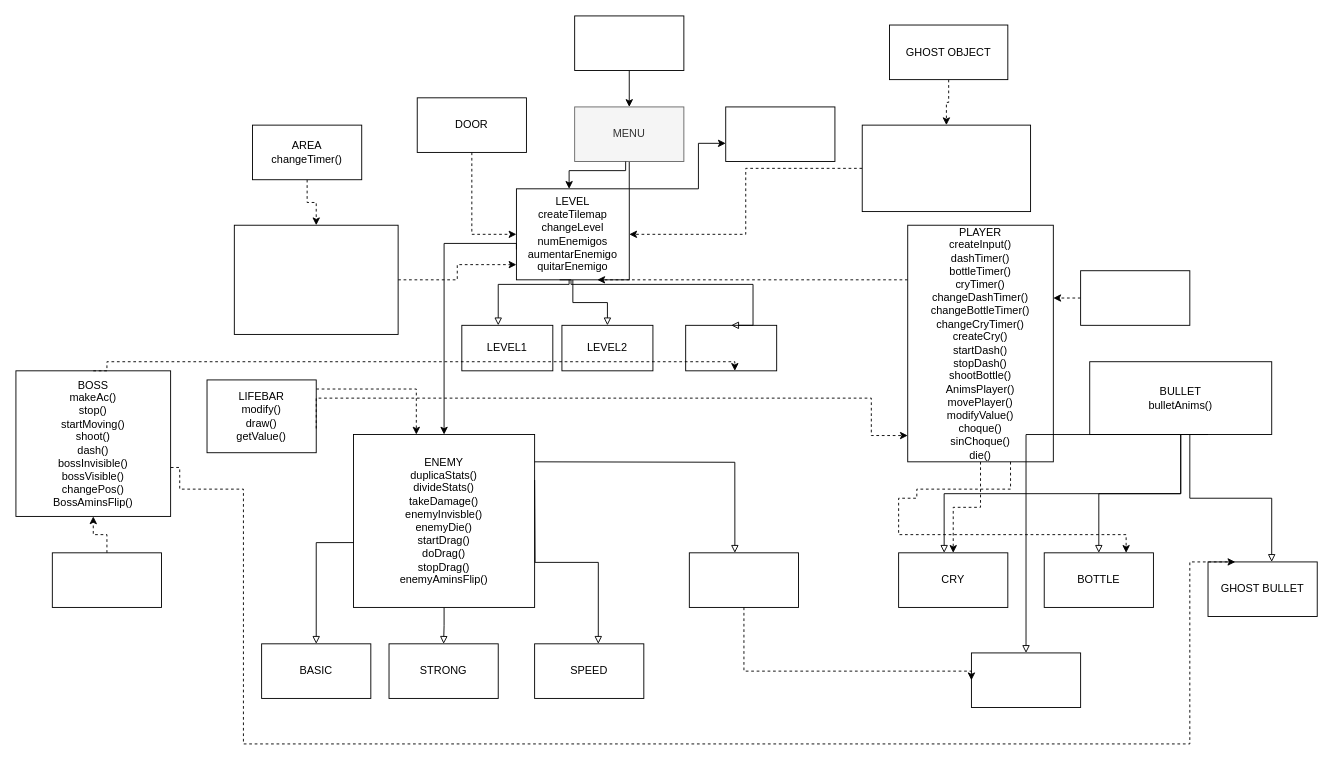
The diagram is 1333 pixels wide and 767 high, and some of its shapes have lost their labels. Each missing label, with the centre of its shape:
"AGNAN EYES eyeTimer() closeEye() openEye() resetBoolean()" goes at (x=315, y=279).
"AGNAN LIFE takeDamage() Die()" goes at (x=106, y=579).
"BOOT createAmis() create()" goes at (x=629, y=43).
"CONTROL" goes at (x=780, y=134).
"LEVEL3" goes at (x=731, y=347).
"LIFE" goes at (x=1135, y=297).
"MOVING OBJECT starDrag() doDrag() stopDrag()" goes at (x=946, y=168).
"RANGED BULLET" goes at (x=1026, y=680).
"RANGED enemyShoot()" goes at (x=743, y=579).
